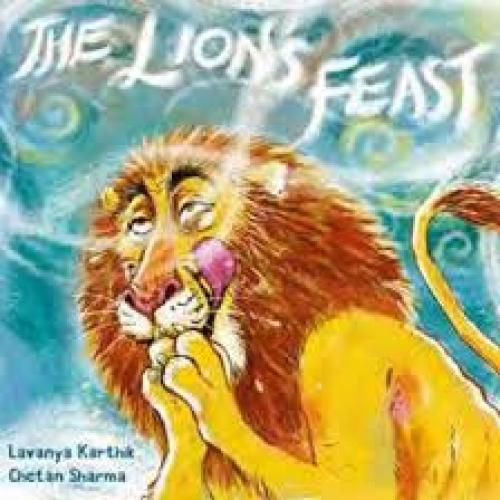lion-endangered: (84, 135, 500, 500)
